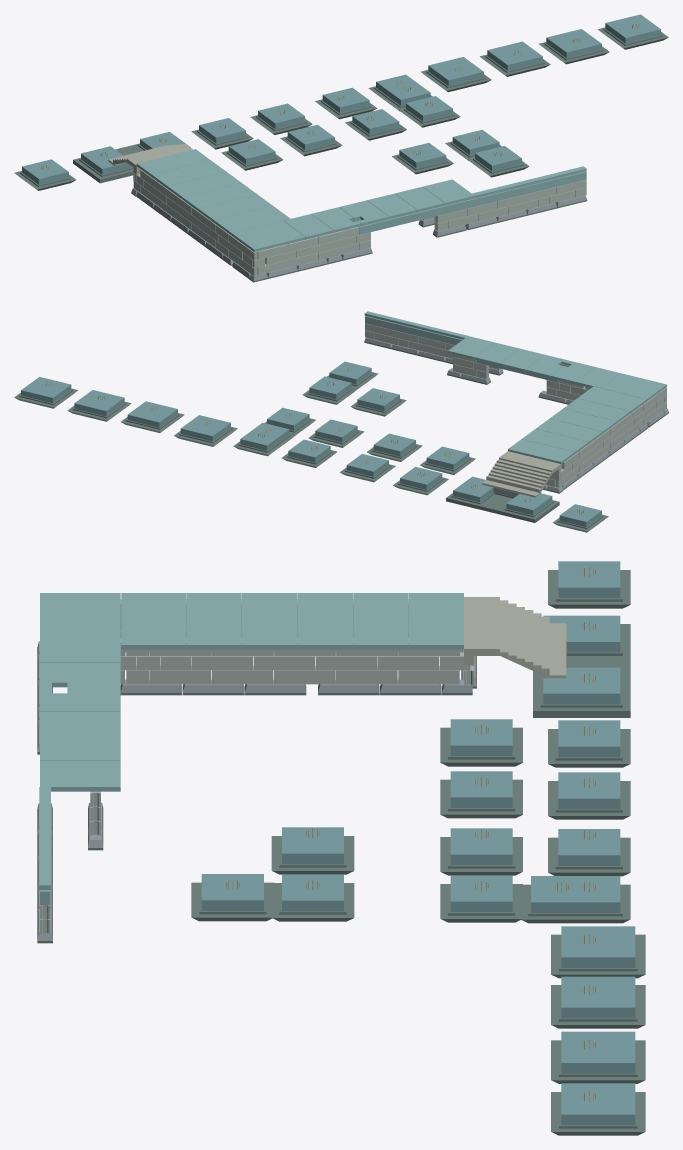
Rendered from canopy-plan.glb.
3 renders of one model, top to bottom at view 1: azimuth 30°, elevation 25°; view 2: azimuth 150°, elevation 25°; view 3: azimuth 270°, elevation 25°, orthographic. The views are drawn at different scales.
Parts seen in each view (by area): view 1: Фм1 (×11), Фм4 (×4), Пм1.1 (×4), Пм2.1 (×3), Пм4, Фм2, Бм2, Пм3, Фм3, Пм1.2, Лм1, Бм1 (+5 smaller); view 2: Фм1 (×11), Фм4 (×4), Пм1.1 (×4), Лм1, Пм2.1 (×3), Фм2, ЩП, Пм4, Пм3, Фм3, Пм1.2, Бм2 (+4 smaller); view 3: Фм1 (×11), ЩП (×17), Фм4 (×4), Пм1.1 (×4), СБ1 (×9), Лм1, Пм2.1 (×3), Фм2, Пм4, Пм3, Фм3, Пм1.2 (+5 smaller).
Boxes of the visible parts, x1,y1,x2,y2 form: Фм1 (×11): (22, 87, 521, 184); Фм4 (×4): (428, 14, 660, 86); Пм1.1 (×4): (136, 149, 272, 221); Пм2.1 (×3): (284, 186, 444, 239); Пм4: (232, 220, 305, 251); Фм2: (81, 132, 190, 174); Бм2: (448, 171, 586, 212); Пм3: (213, 205, 290, 235); Фм3: (376, 74, 430, 105); Пм1.2: (167, 171, 241, 199); Лм1: (108, 144, 192, 174); Бм1: (358, 205, 448, 234); Фм1 (×11): (267, 361, 601, 527); Фм4 (×4): (21, 377, 230, 441); Пм1.1 (×4): (508, 398, 630, 463); Лм1: (482, 451, 560, 497); Пм2.1 (×3): (475, 342, 620, 387); Фм2: (453, 476, 552, 515); ЩП: (446, 493, 559, 522); Пм4: (601, 373, 666, 401); Пм3: (577, 386, 646, 413); Фм3: (240, 422, 289, 450); Пм1.2: (536, 418, 602, 443); Бм2: (365, 316, 462, 345); Фм1 (×11): (201, 561, 620, 911); ЩП (×17): (191, 570, 645, 1135); Фм4 (×4): (561, 926, 635, 1125); Пм1.1 (×4): (186, 593, 463, 649); СБ1 (×9): (149, 652, 459, 684); Лм1: (464, 597, 566, 678); Пм2.1 (×3): (40, 638, 120, 760); Фм2: (543, 615, 620, 704); Пм4: (40, 593, 120, 638); Пм3: (121, 593, 185, 649); Фм3: (531, 876, 620, 912); Пм1.2: (297, 593, 352, 649).
Size of the model in its own units: 50.93 by 2.47 by 23.5.
